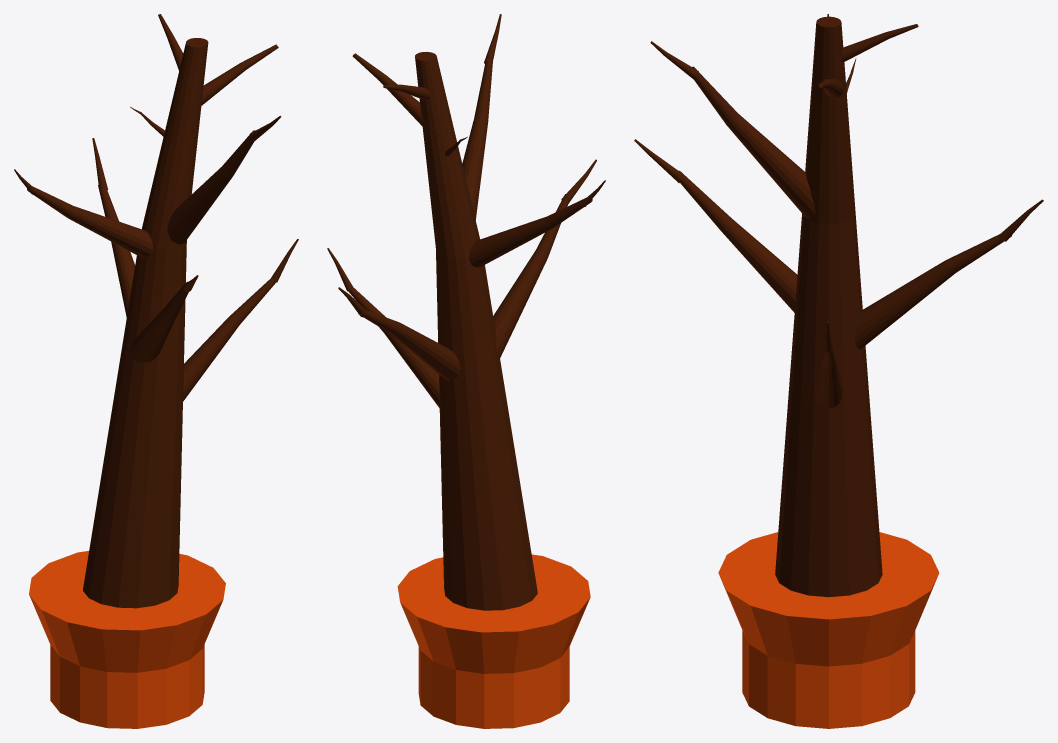
The model's file is cosaaa.fbx.
3 views of the same model, side by side, from view 1: azimuth 30°, elevation 25°; view 2: azimuth 150°, elevation 25°; view 3: azimuth 270°, elevation 25° (orthographic). The views are drawn at different scales.
Visible parts, largest first — view 1: Cylinder.007, Cylinder.015; view 2: Cylinder.007, Cylinder.015; view 3: Cylinder.007, Cylinder.015.
Part boxes in pixels (x1=…): Cylinder.007: x1=14, y1=14, x2=298, y2=608; Cylinder.015: x1=29, y1=551, x2=225, y2=728; Cylinder.007: x1=327, y1=14, x2=605, y2=610; Cylinder.015: x1=397, y1=554, x2=590, y2=728; Cylinder.007: x1=634, y1=14, x2=1043, y2=597; Cylinder.015: x1=718, y1=532, x2=939, y2=728.
Size of the model in its own units: 827 by 1768 by 927.
